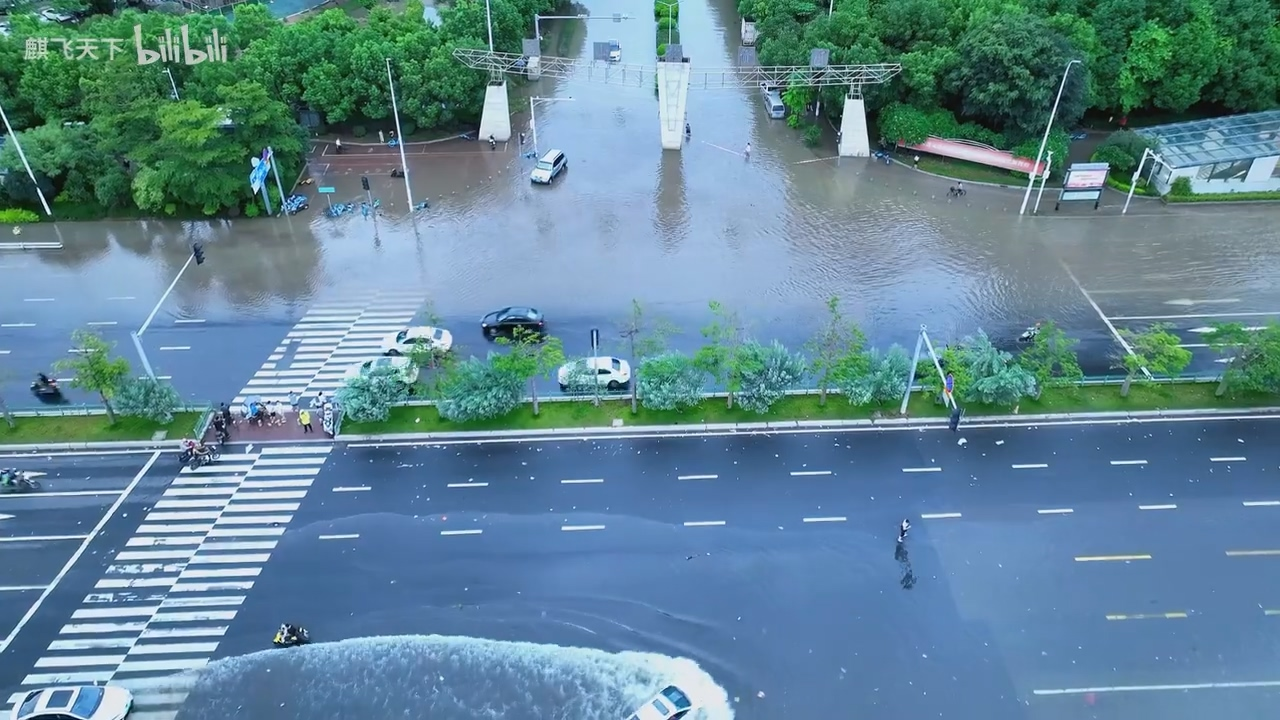puddle: (14, 212, 1264, 330)
